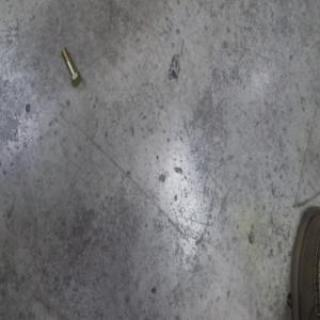Bolttrack_idkeyframe: (60, 46, 82, 87)
